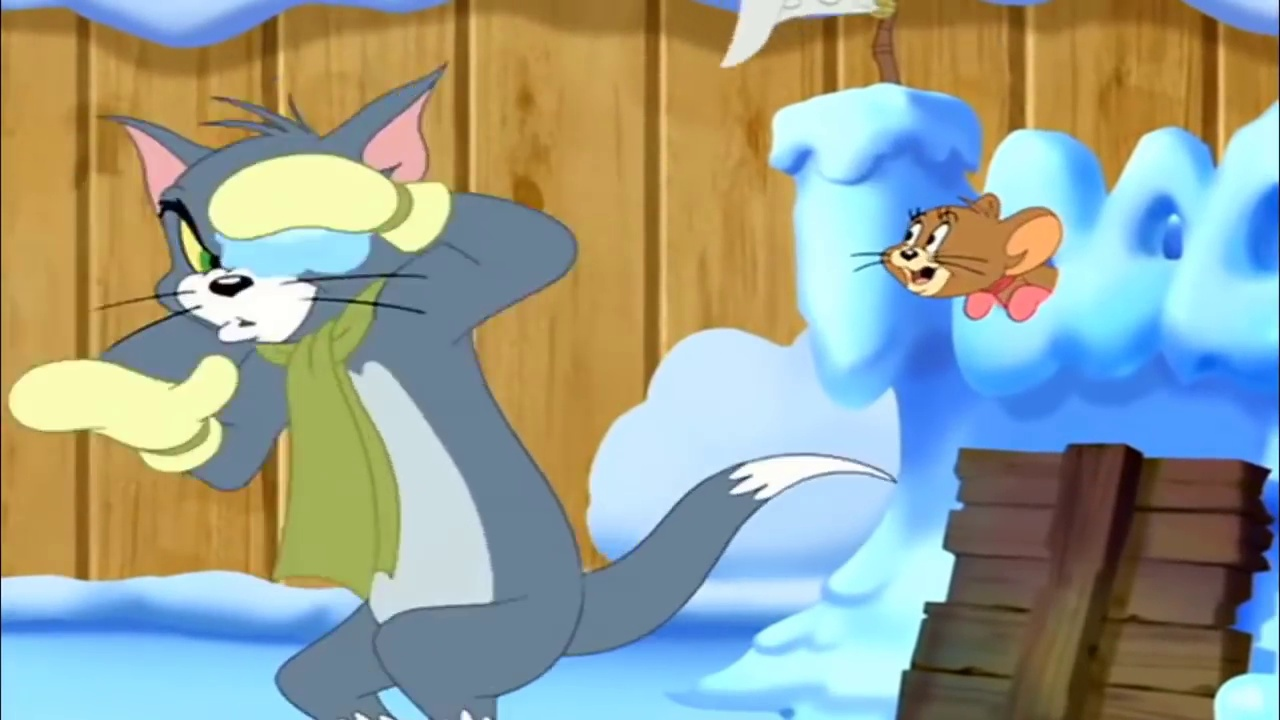face: (153, 173, 343, 347), (887, 207, 976, 297)
